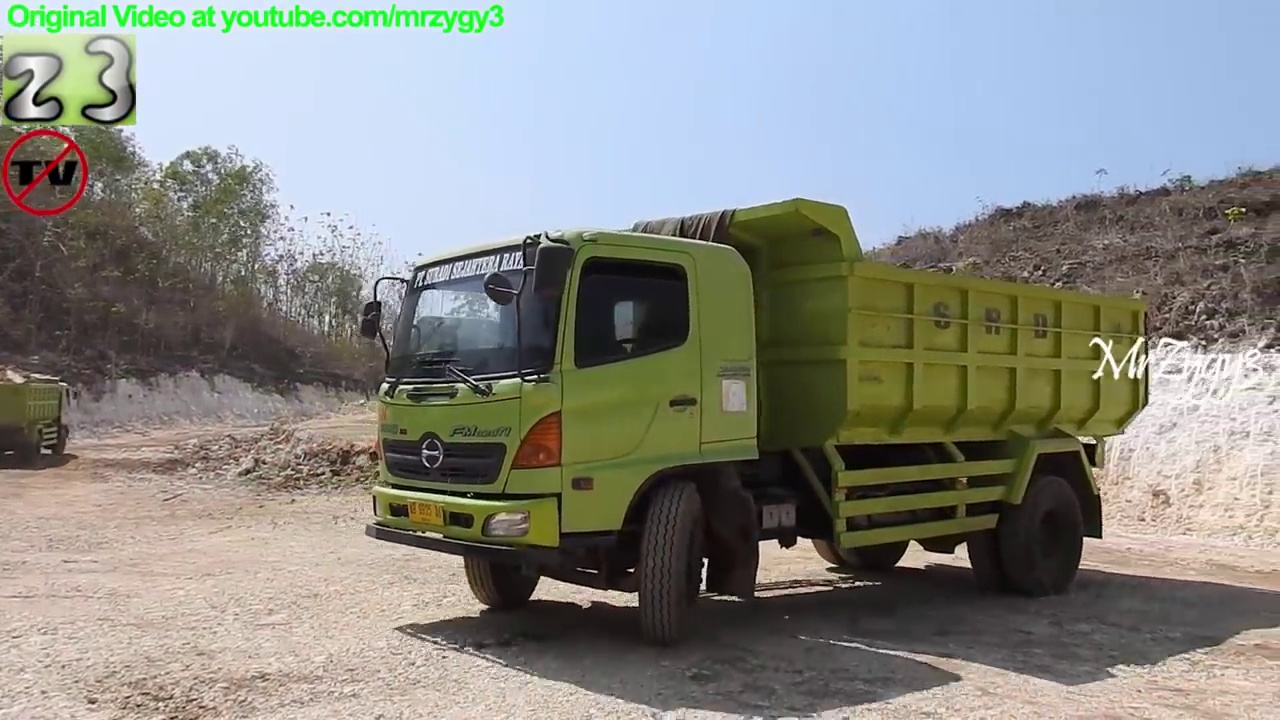truck: (351, 192, 1161, 652), (1, 366, 81, 472)
